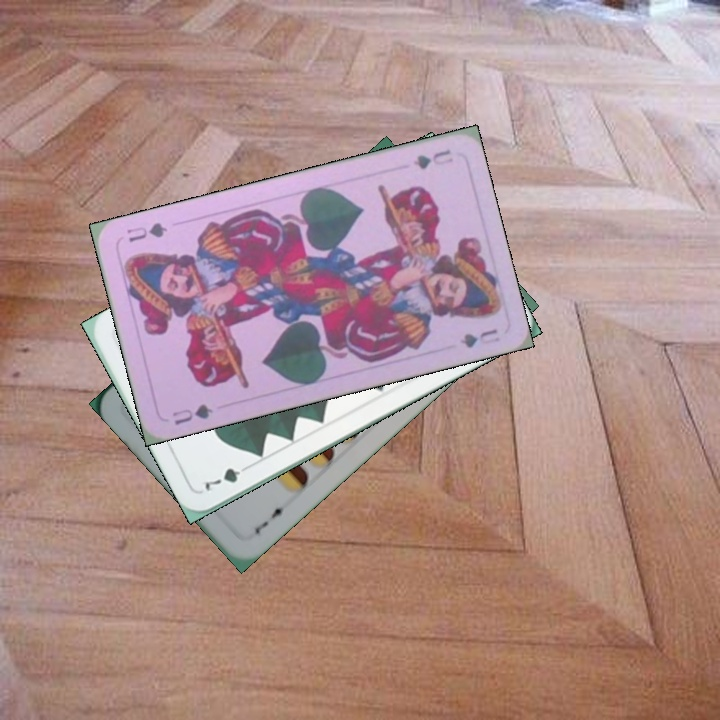E7: (250, 500, 292, 537)
G7: (200, 459, 253, 494)
GU: (168, 399, 216, 428), (409, 145, 456, 172)
